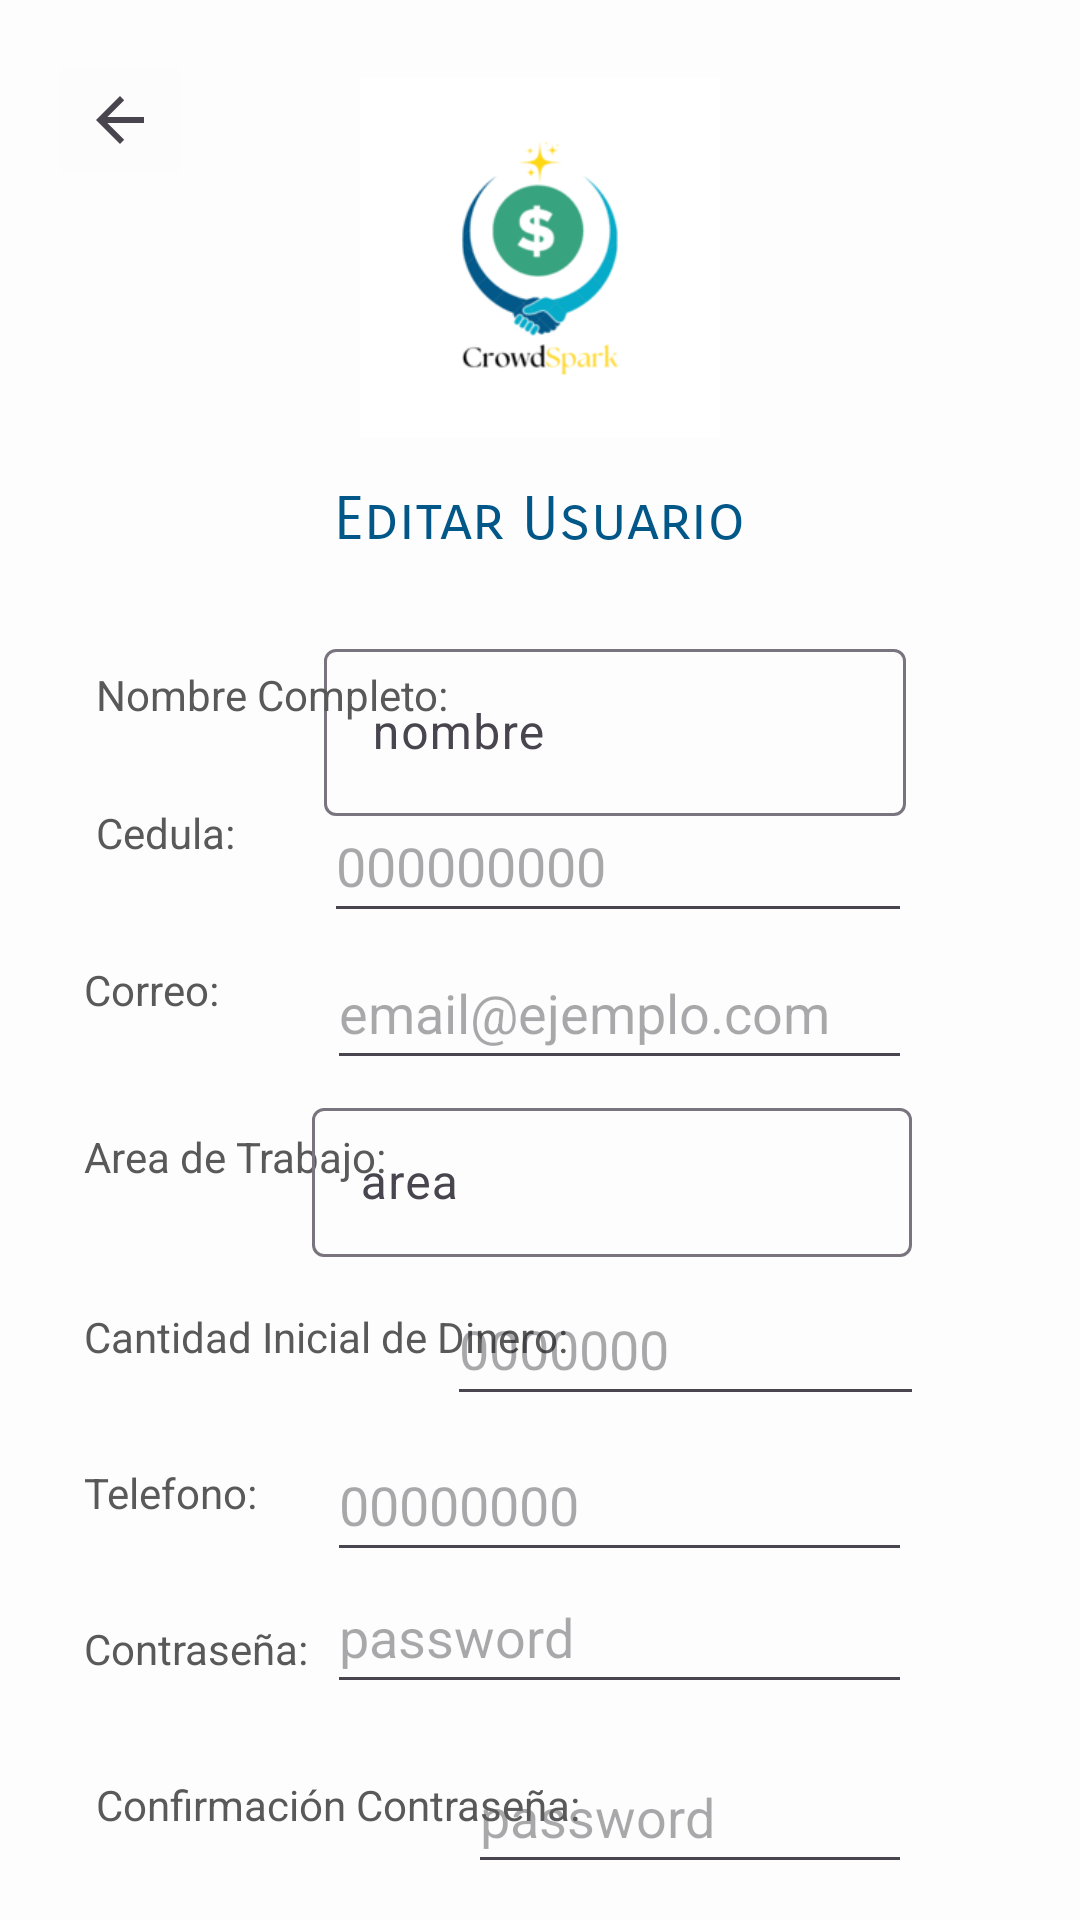

Named icons in this screenshot (1080 x 1920) and their centers, [x,y]:
Go back: [120,120]
